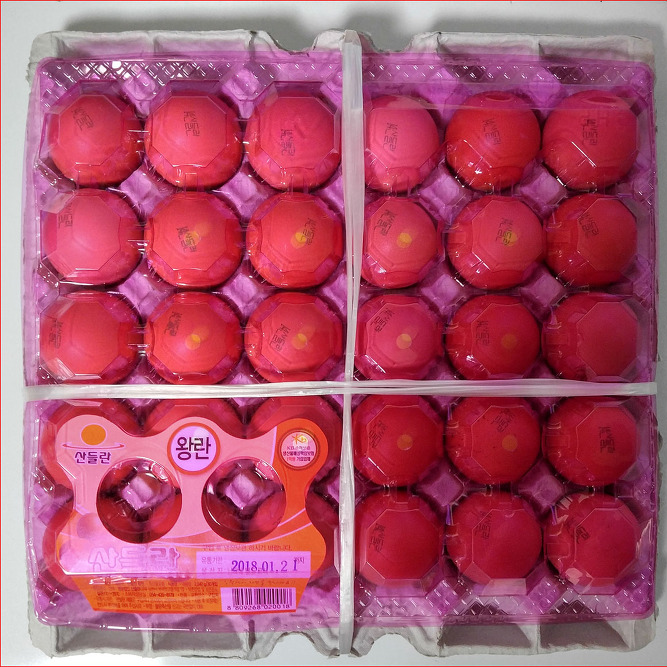egg: (42, 85, 647, 602)
